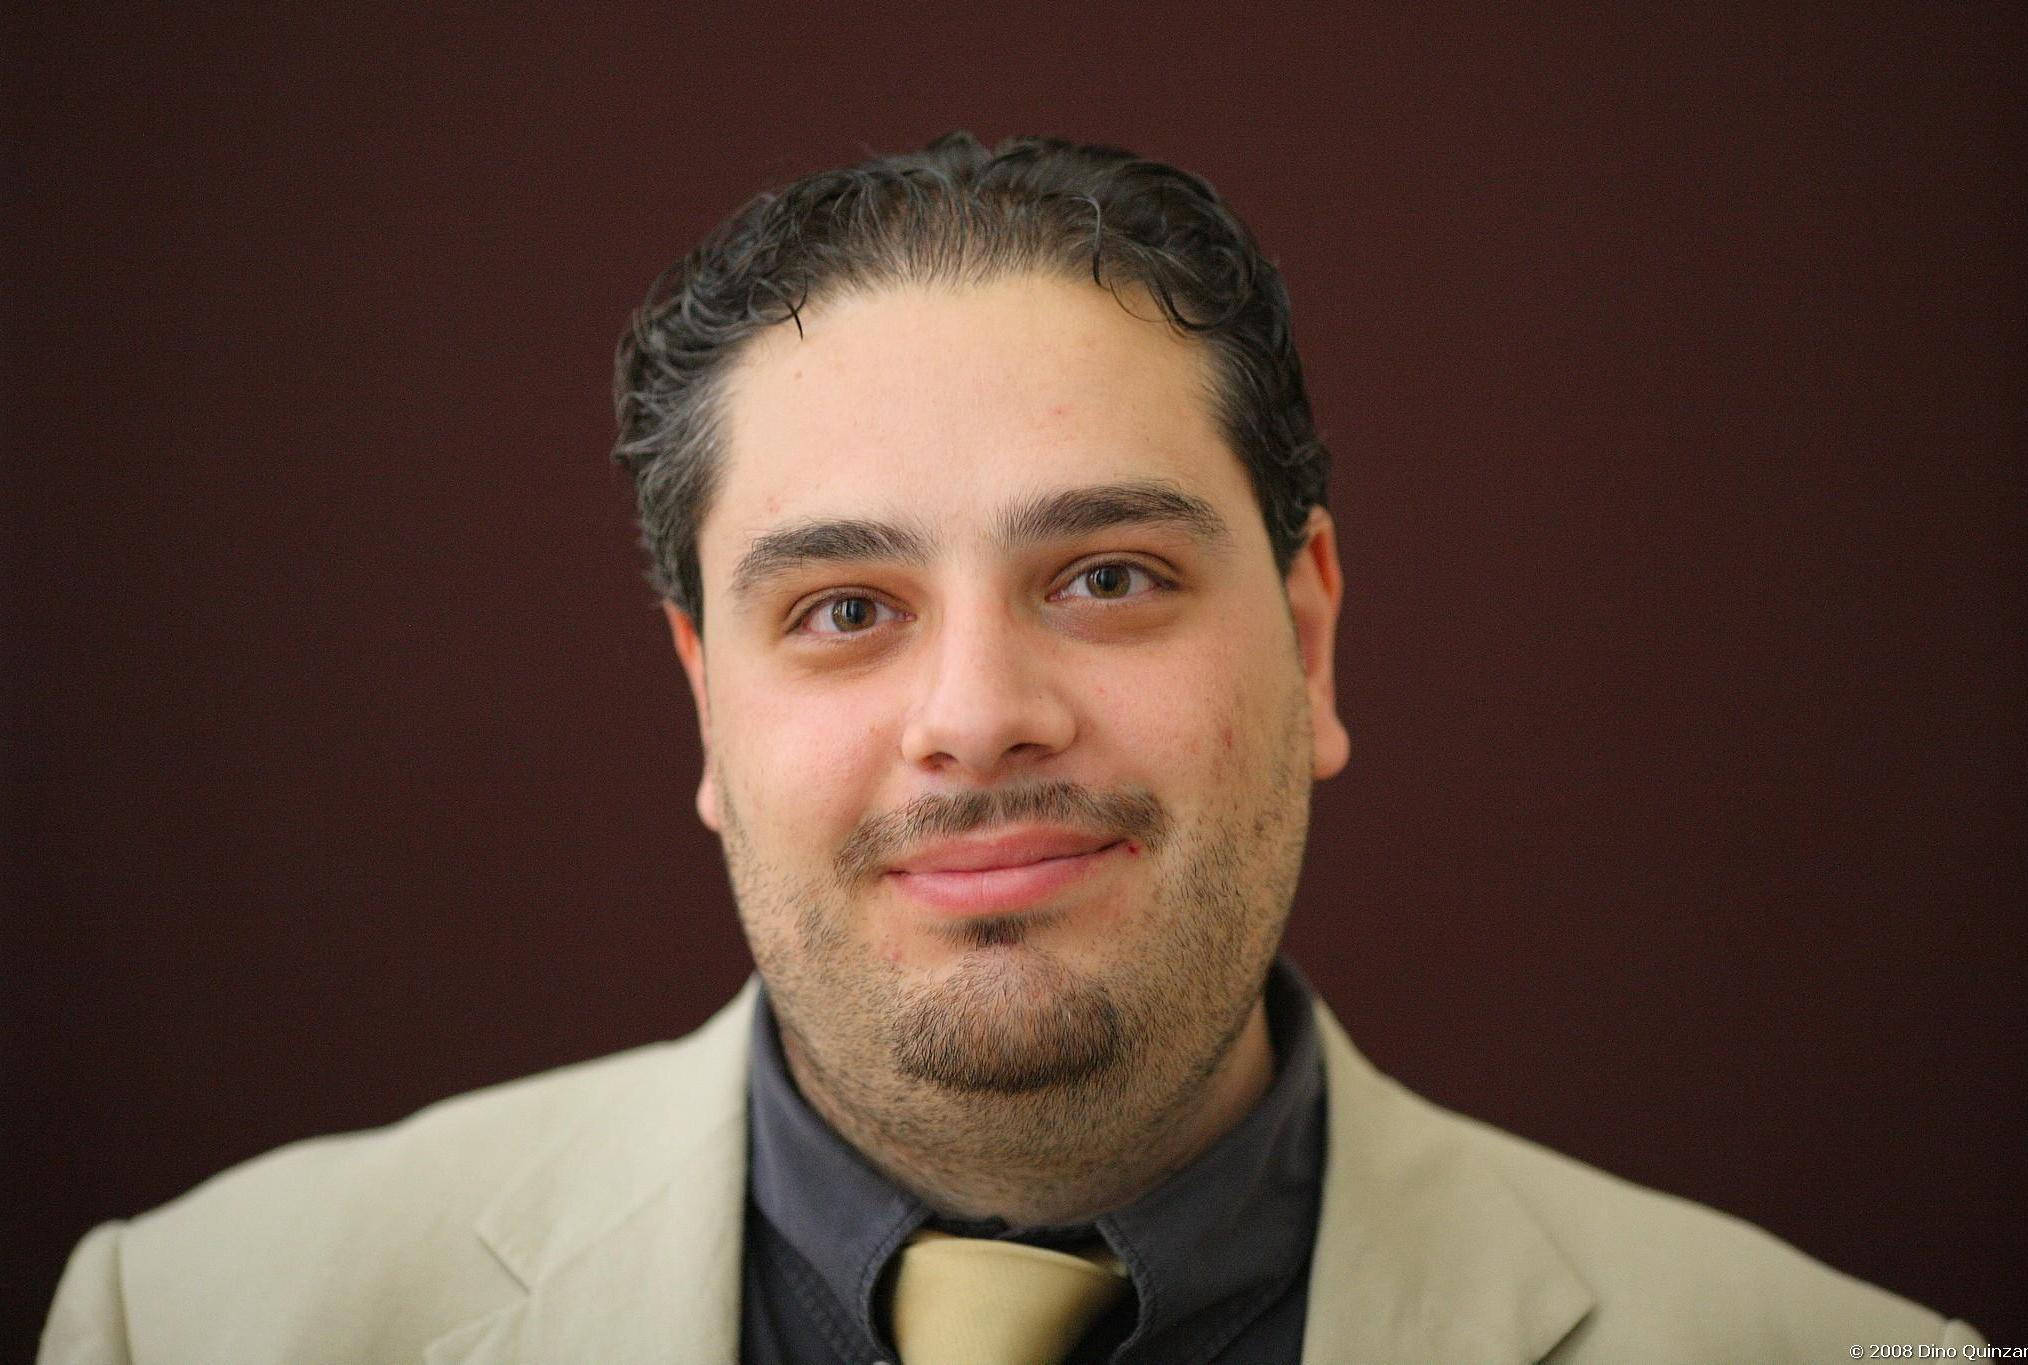Eyebags: (766, 620, 916, 686), (1042, 590, 1188, 652)
